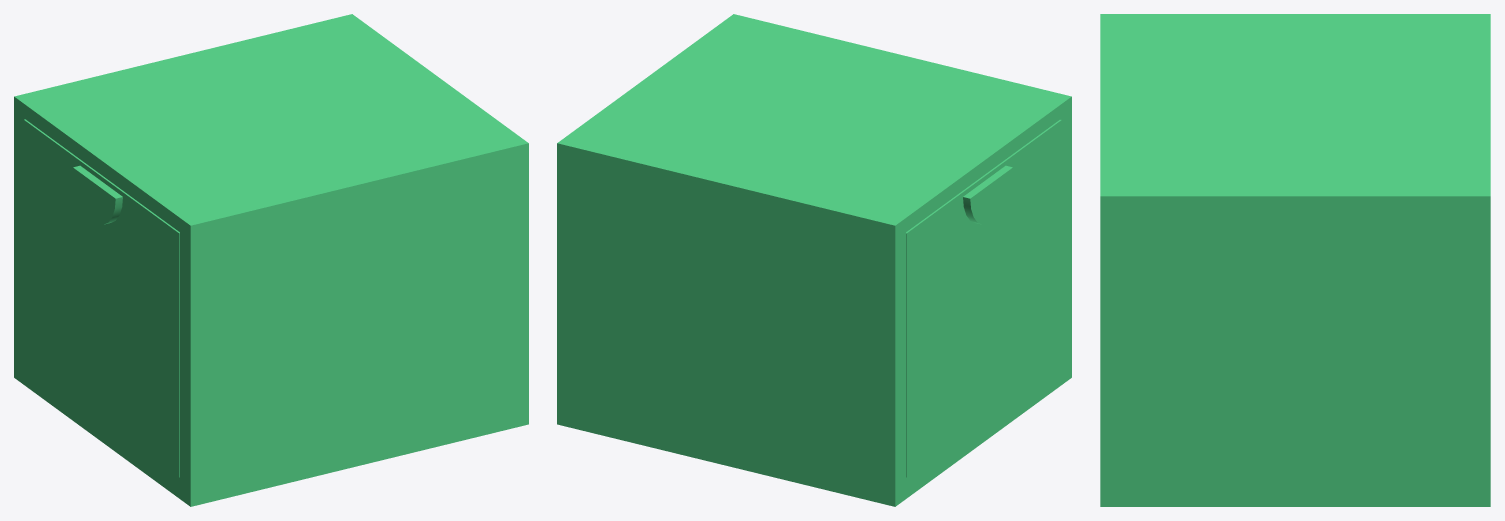
The picture shows the model from 3 angles, left to right: view 1: azimuth 30°, elevation 25°; view 2: azimuth 150°, elevation 25°; view 3: azimuth 270°, elevation 25°; orthographic projection. The views are drawn at different scales.
Parts seen in each view (by area): view 1: box_2, box_1; view 2: box_2, box_1; view 3: box_2.
Boxes of the visible parts, <box> form: box_2: <box>14,14,528,506</box>; box_1: <box>24,119,179,477</box>; box_2: <box>557,14,1071,506</box>; box_1: <box>906,119,1061,477</box>; box_2: <box>1100,14,1490,506</box>.
Size of the model in its own units: 137 by 106 by 121.
